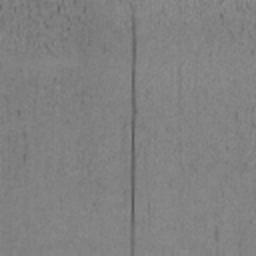Scratches: (128, 10, 138, 256)
